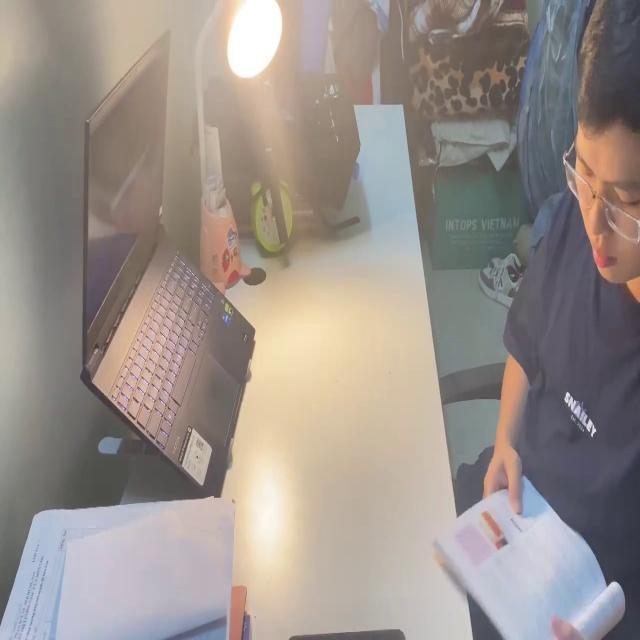book: (425, 459, 623, 640), (0, 502, 257, 640)
laptop: (76, 21, 257, 494)
student: (447, 0, 640, 640)
